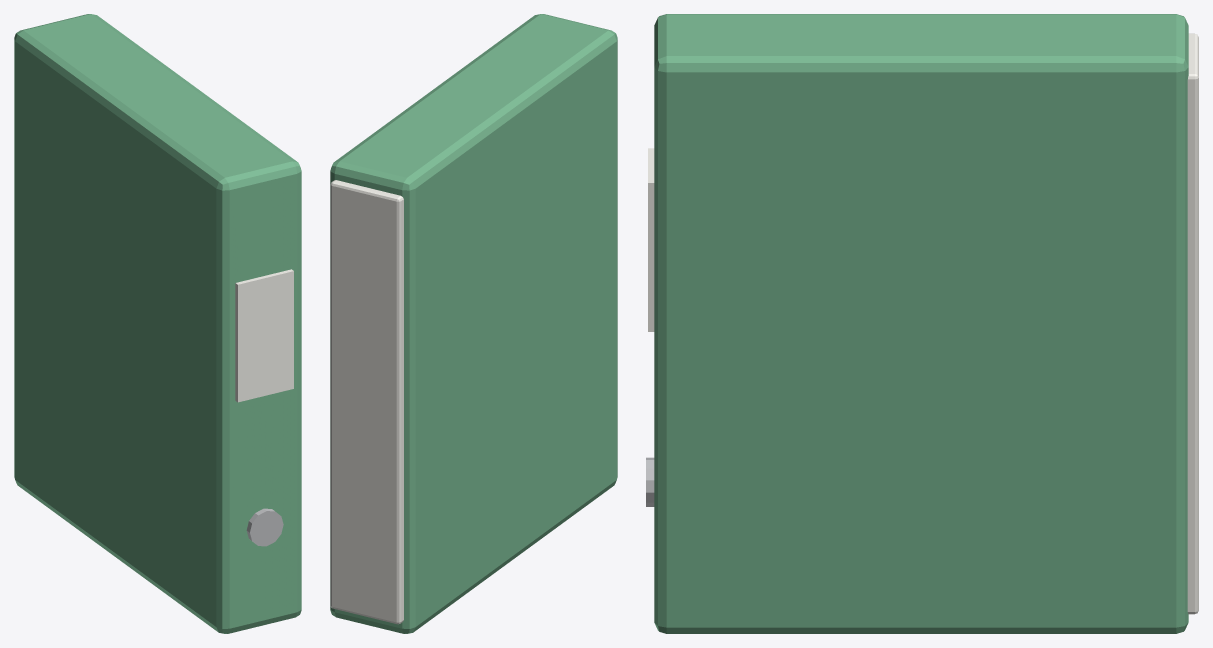
Rendered from binder_green.fbx.
3 renders of one model, left to right at view 1: azimuth 30°, elevation 25°; view 2: azimuth 150°, elevation 25°; view 3: azimuth 270°, elevation 25°, orthographic. The views are drawn at different scales.
Visible parts, largest first — view 1: binder_green; view 2: binder_green; view 3: binder_green.
Part boxes in pixels (x1=…): binder_green: x1=14, y1=14, x2=301, y2=633; binder_green: x1=330, y1=14, x2=617, y2=633; binder_green: x1=646, y1=14, x2=1198, y2=633.
Bounding box in the file's own units: 0.06 × 0.31 × 0.269.
